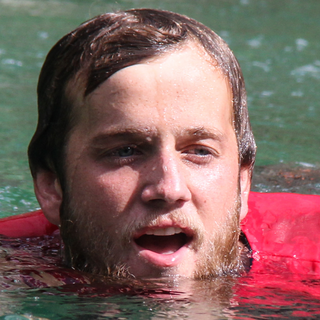eye: (100, 140, 150, 164), (178, 141, 222, 165)
